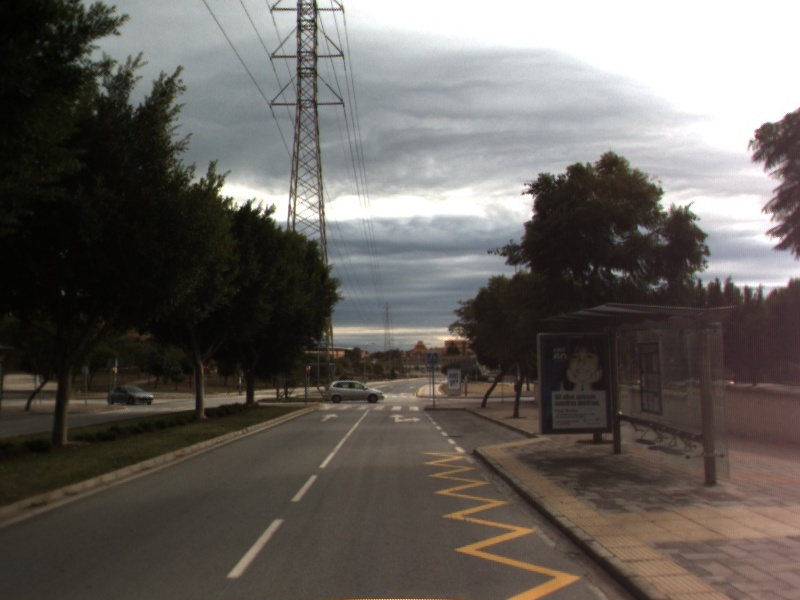STRAIGHT: (318, 411, 341, 424)
STRAIGHT_RIGHT: (387, 411, 423, 425)
